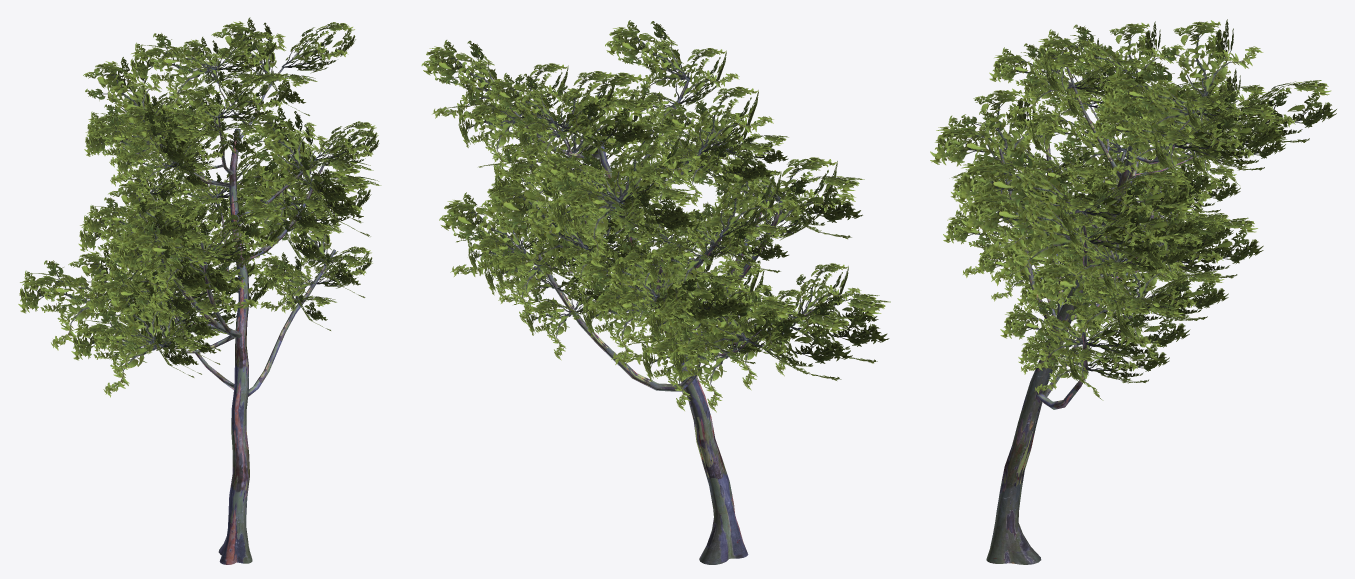
The model's file is Tree - Tree9 2-DcrsUzAO.glb.
The picture shows the model from 3 angles, left to right: view 1: azimuth 30°, elevation 25°; view 2: azimuth 150°, elevation 25°; view 3: azimuth 270°, elevation 25°; orthographic projection. The views are drawn at different scales.
Parts seen in each view (by area): view 1: Tree9_2; view 2: Tree9_2; view 3: Tree9_2.
Part boxes in pixels (bbox=[...]): Tree9_2: bbox=[18, 17, 381, 564]; Tree9_2: bbox=[421, 20, 890, 564]; Tree9_2: bbox=[930, 19, 1336, 564].
Bounding box in the file's own units: 18.62 × 22.86 × 15.77.
Materials: 2 (2 with a texture image).
